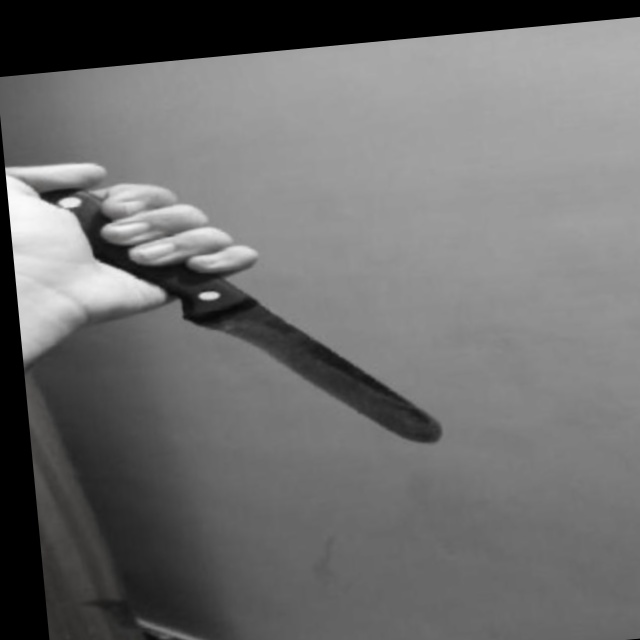Sharp-Object: (40, 158, 442, 477)
